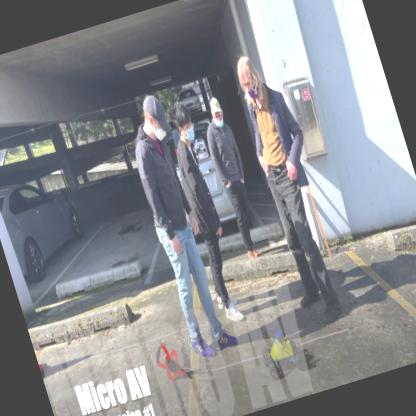mushr_car: (252, 318, 326, 384)
